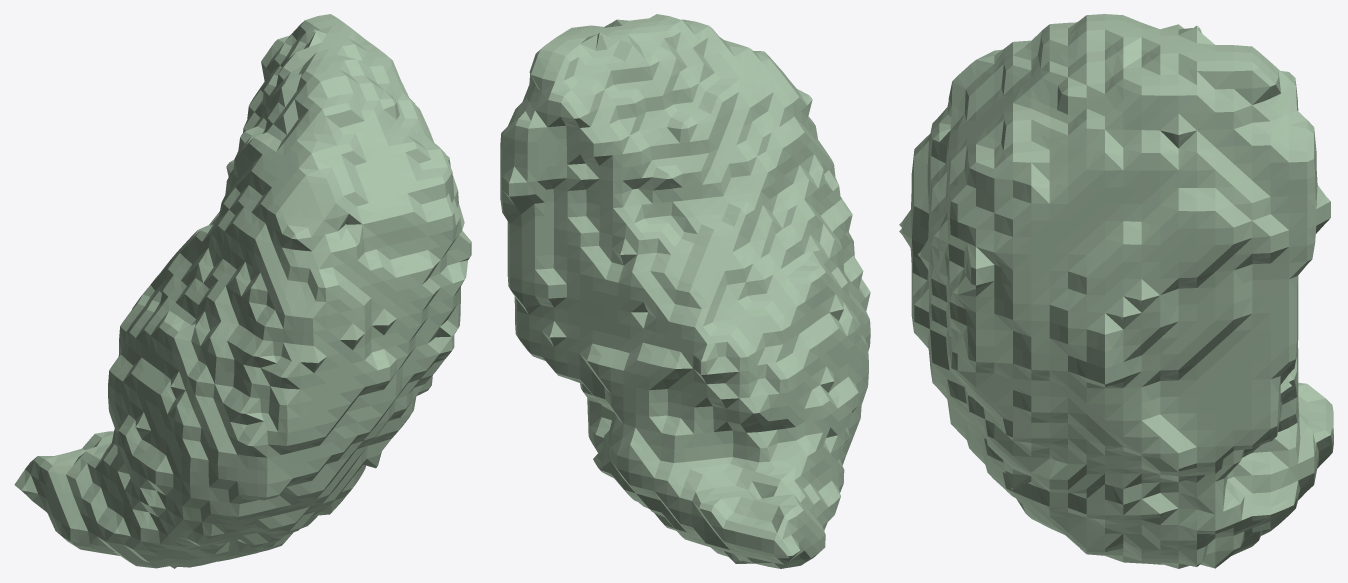
Rendered from l_thalamus.glb.
3 renders of one model, left to right at view 1: azimuth 30°, elevation 25°; view 2: azimuth 150°, elevation 25°; view 3: azimuth 270°, elevation 25°, orthographic. The views are drawn at different scales.
Visible parts, largest first — view 1: world; view 2: world; view 3: world.
Part boxes in pixels (left/top/right/bottom): world: left=14, top=14, right=471, bottom=568; world: left=500, top=14, right=870, bottom=568; world: left=899, top=14, right=1333, bottom=568.
Size of the model in its own units: 26.62 by 36.51 by 23.61.
